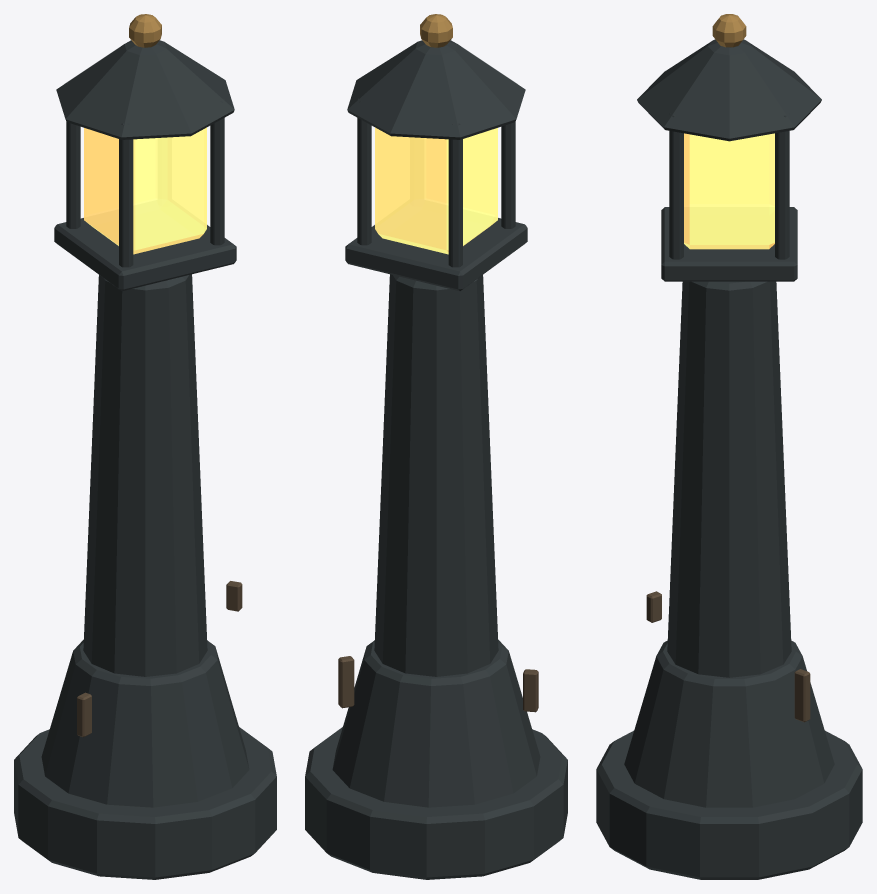
Rendered from runtime.glb.
3 views of the same model, side by side, from view 1: azimuth 30°, elevation 25°; view 2: azimuth 150°, elevation 25°; view 3: azimuth 270°, elevation 25° (orthographic).
Parts seen in each view (by area): view 1: eiffel-historic-lamp-v02_nocol; view 2: eiffel-historic-lamp-v02_nocol; view 3: eiffel-historic-lamp-v02_nocol.
Boxes of the visible parts, x1,y1,x2,y2 form: eiffel-historic-lamp-v02_nocol: (14, 14, 276, 879); eiffel-historic-lamp-v02_nocol: (305, 14, 567, 879); eiffel-historic-lamp-v02_nocol: (596, 14, 862, 879).
Size of the model in its own units: 0.8969 by 3.1 by 0.92.
